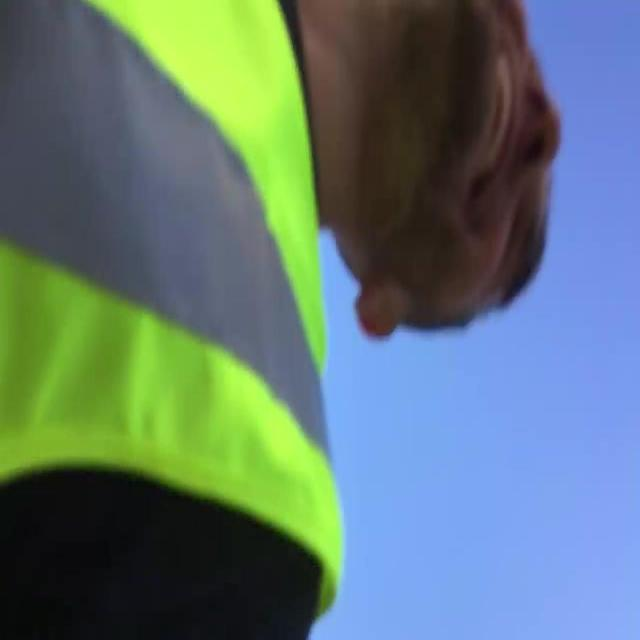Reflective-Jacket: (1, 1, 352, 619)
